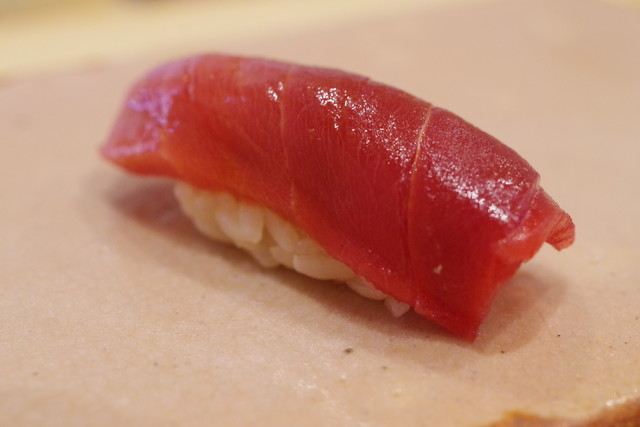medium_fatty_tuna: (102, 52, 577, 348)
